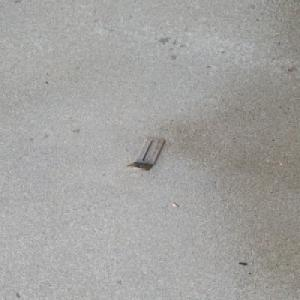MetalPart: (124, 136, 166, 170)
